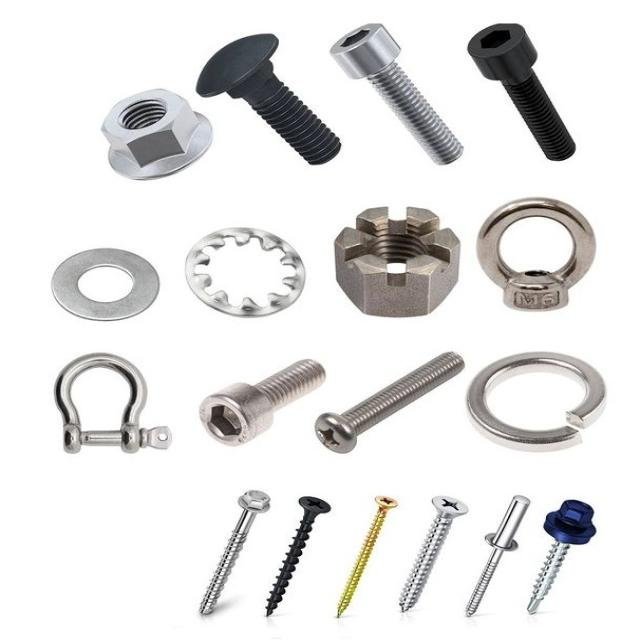Logam: (319, 5, 486, 178), (175, 20, 350, 179), (451, 19, 606, 183), (35, 347, 190, 483), (327, 333, 482, 464), (470, 190, 608, 332), (328, 189, 464, 331), (468, 340, 612, 468), (198, 349, 328, 474), (178, 217, 318, 327), (88, 81, 218, 192), (39, 227, 170, 328), (524, 490, 626, 616), (177, 485, 270, 620), (393, 480, 466, 620), (471, 486, 528, 614), (278, 482, 320, 622), (346, 478, 380, 620)
